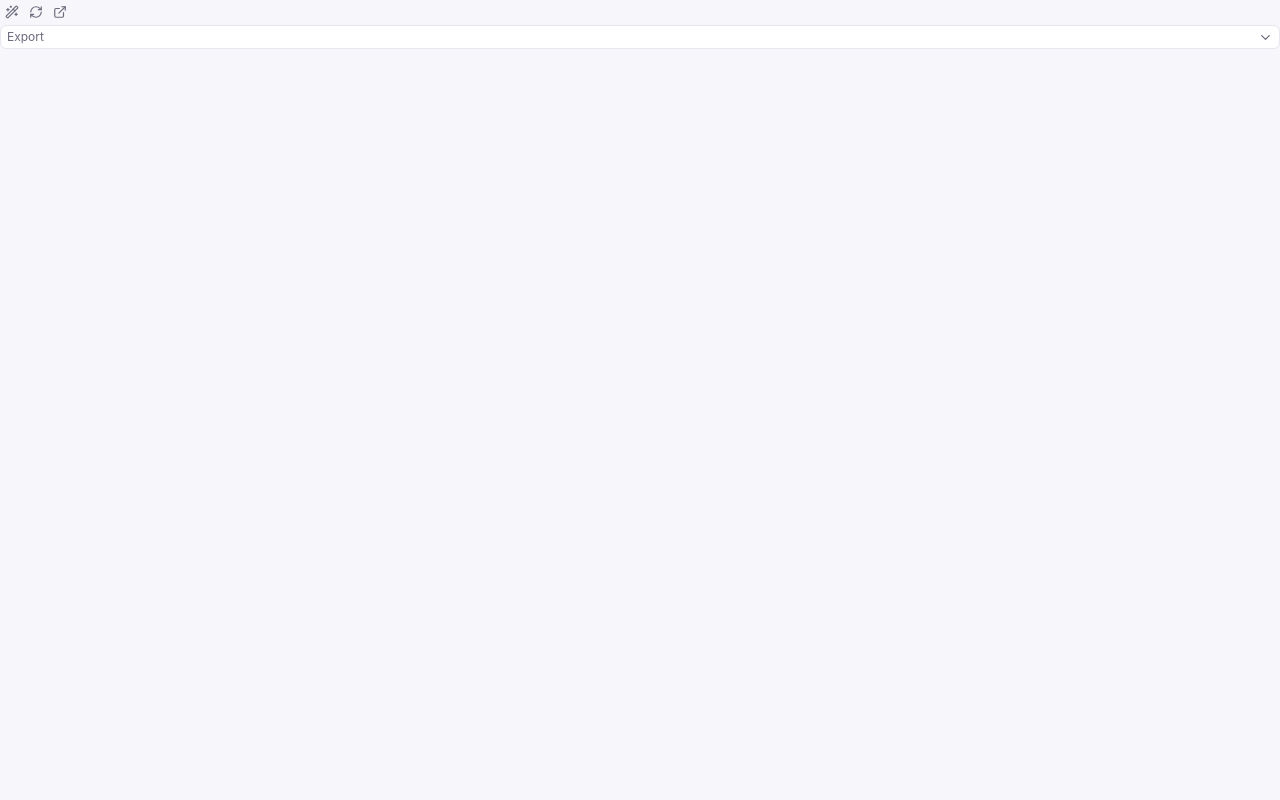
ArchifyPane › keeps the dialog open with Archify's refusal
Click the button named "Adjust with AI" at (12, 12), box x1=0 y1=0 x2=24 y2=24
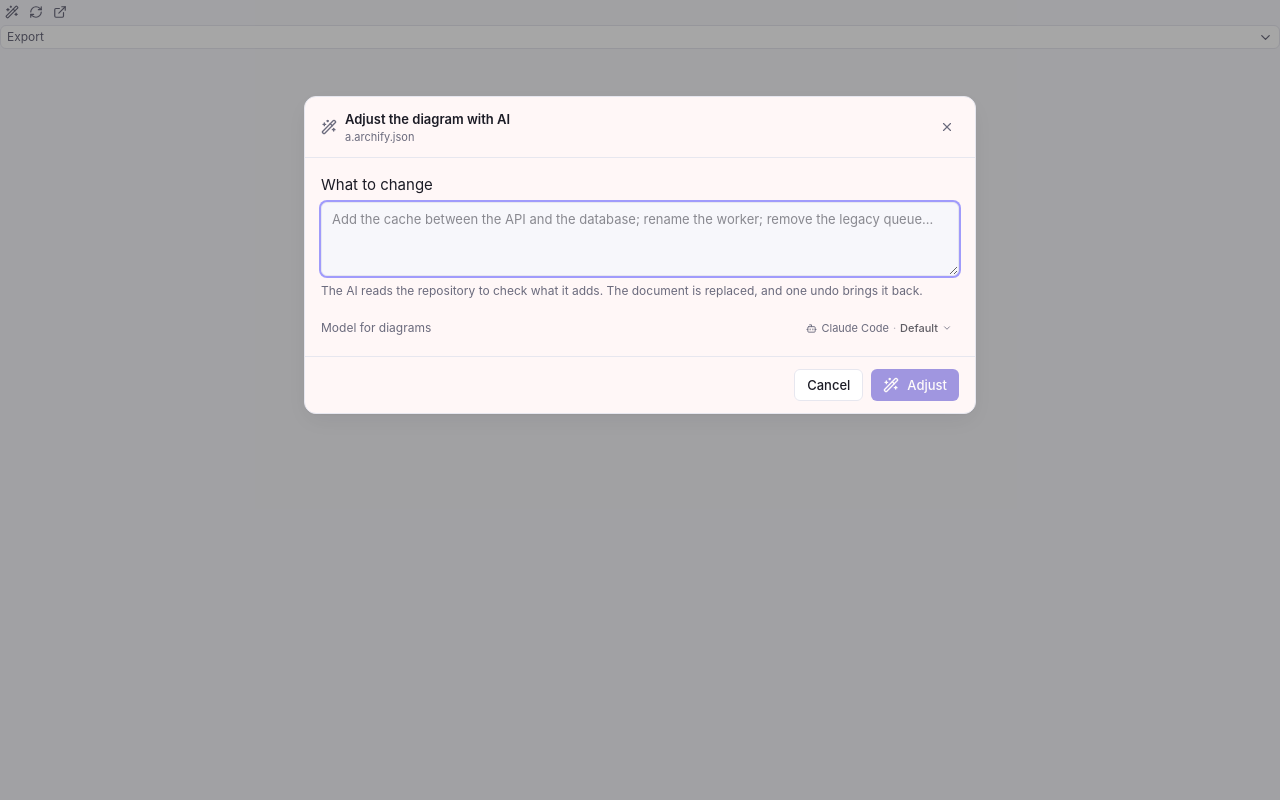
Type "x" into the text box labelled "What to change" at (640, 239), box x1=321 y1=202 x2=959 y2=276
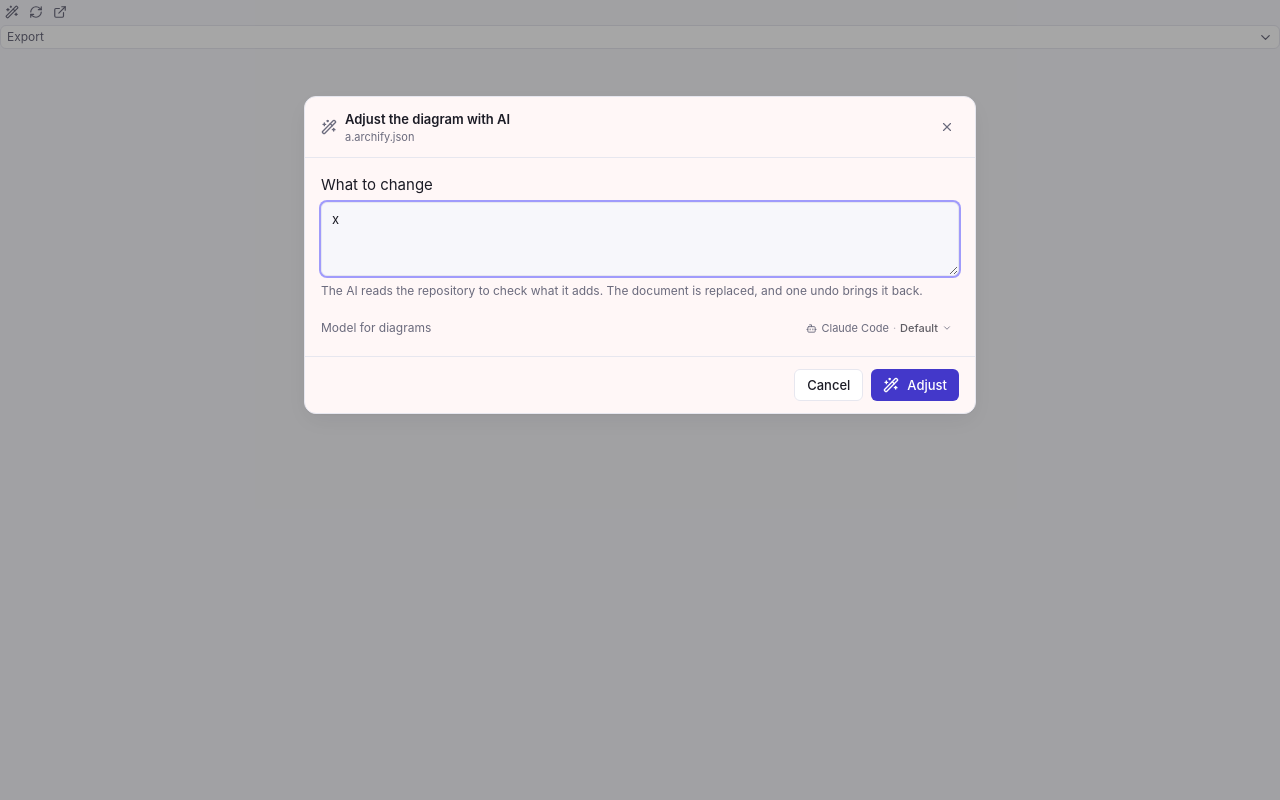
Click the button "Adjust" at (915, 385), box x1=871 y1=369 x2=959 y2=401
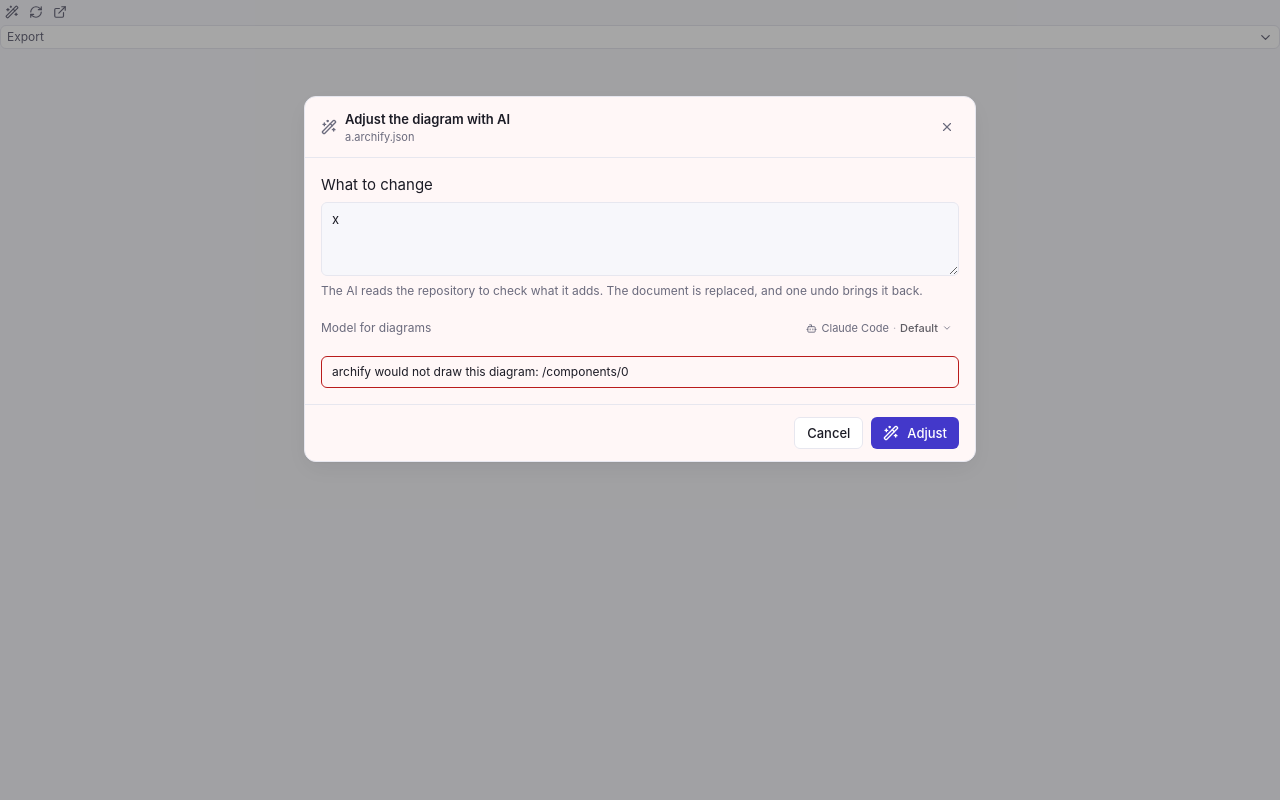
Now the message reads "archify would not draw this diagram: /components/0", box x1=332 y1=364 x2=629 y2=379
